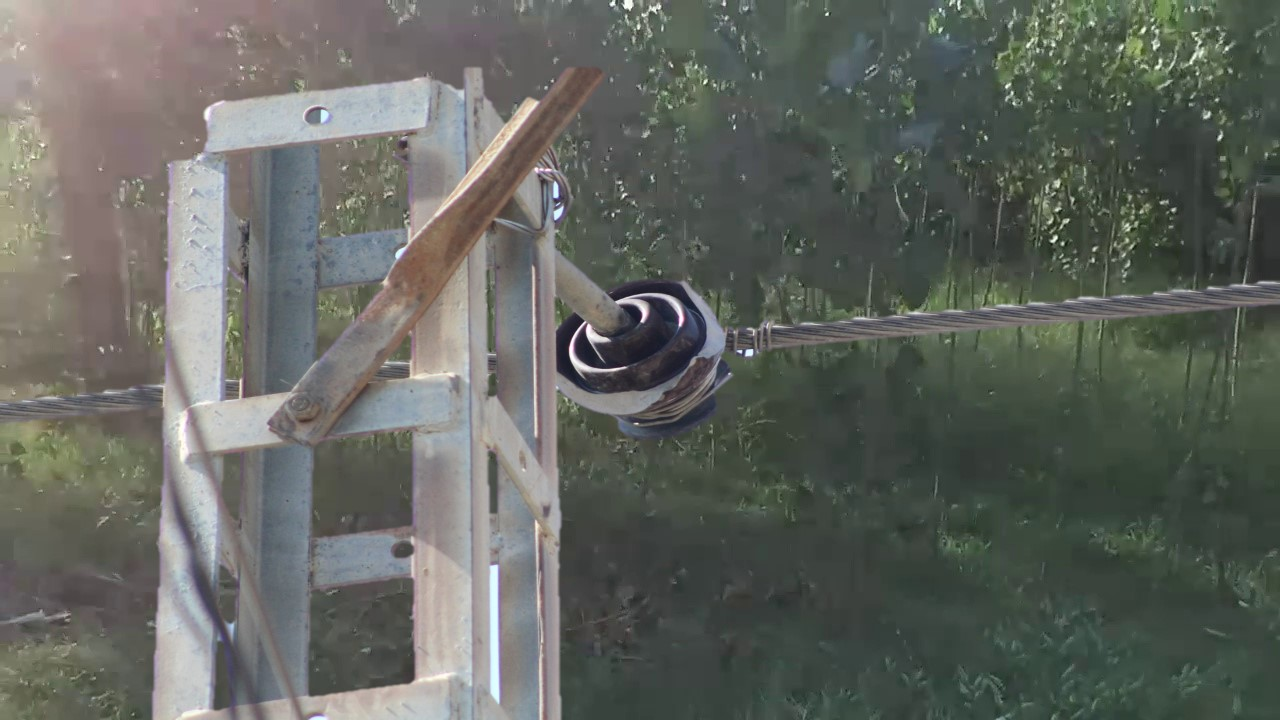defect_pin: (554, 274, 737, 449)
